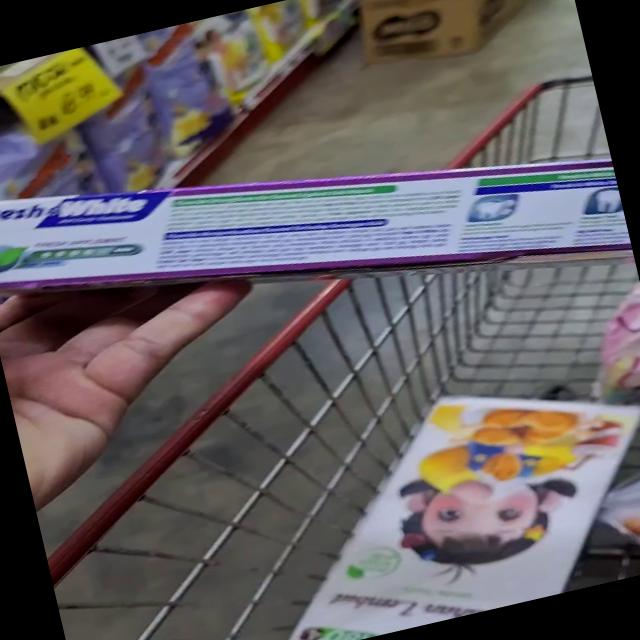Tisu: (278, 358, 640, 574), (264, 478, 617, 640)
Ubat Gigi: (251, 113, 634, 341), (0, 123, 292, 343)
